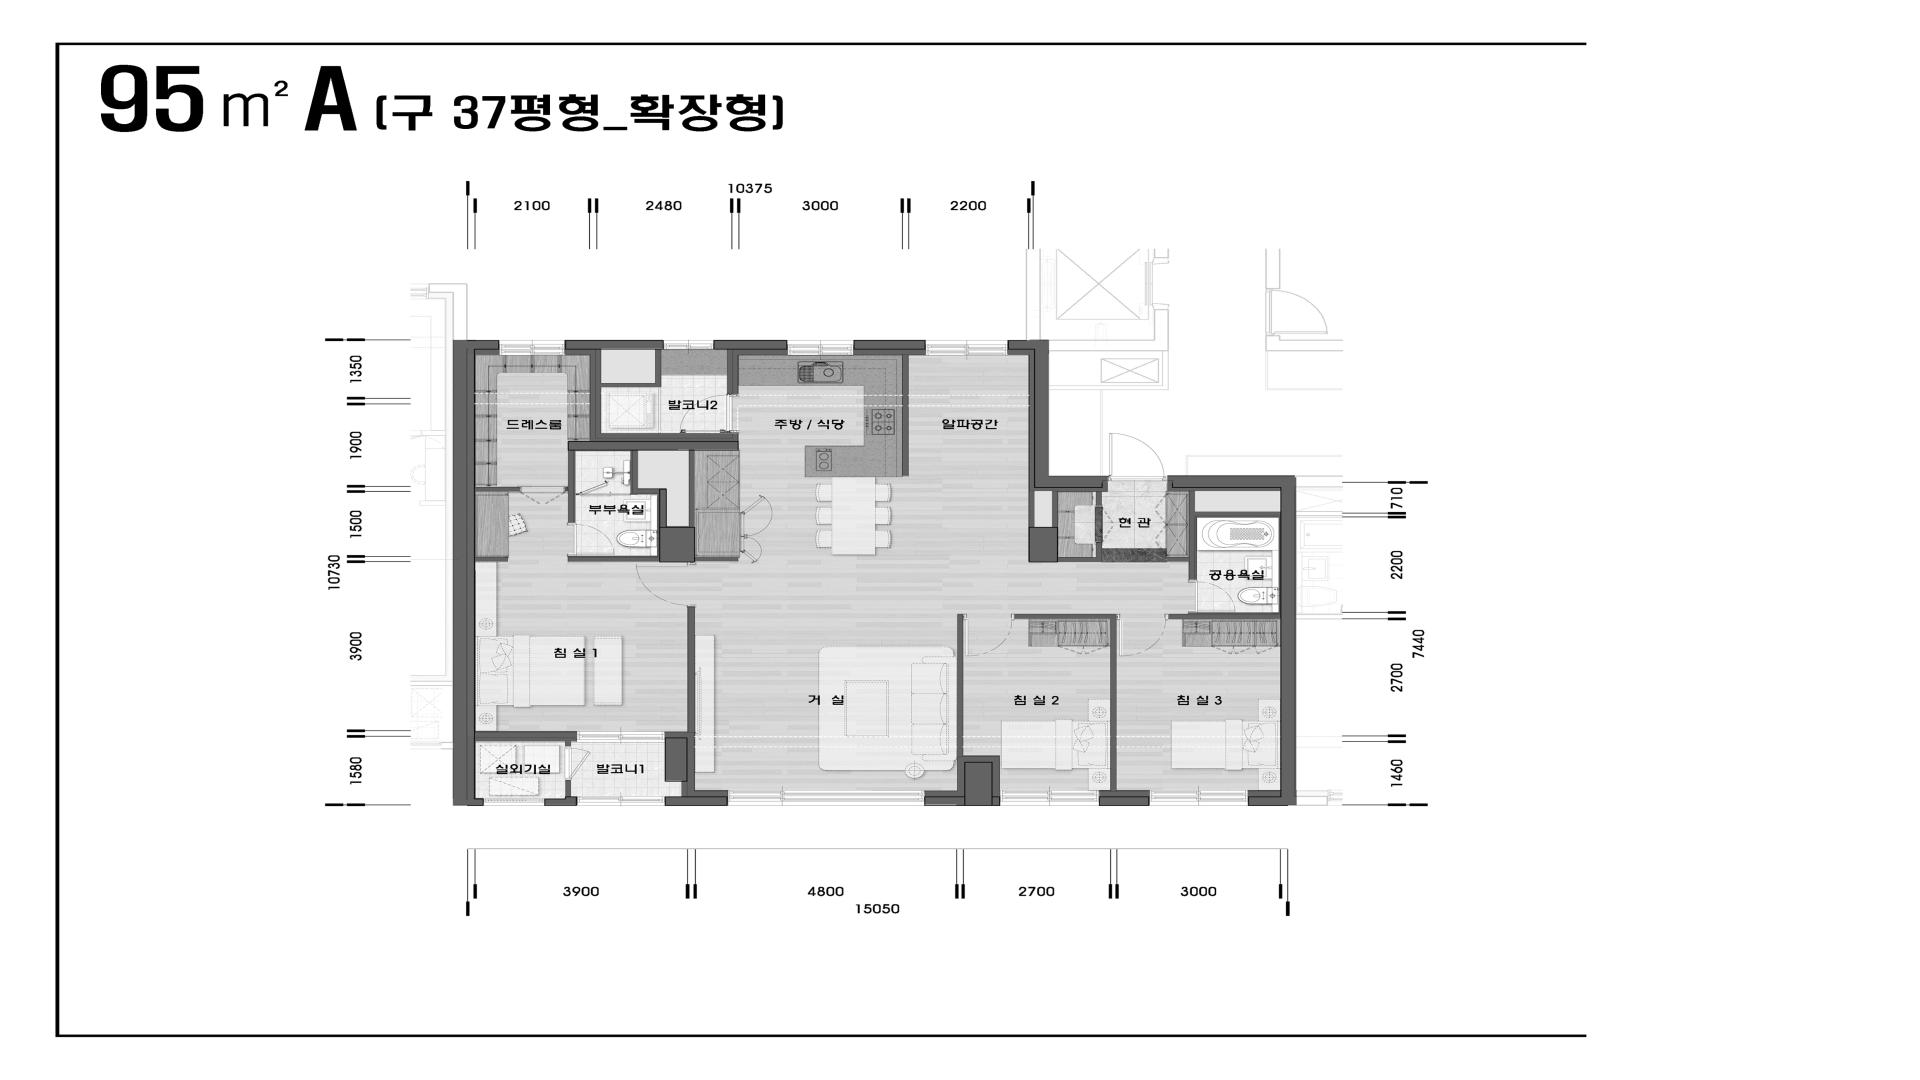background: (0, 0, 1920, 1080)
door: (1108, 433, 1168, 482), (636, 562, 697, 607), (963, 614, 1015, 656), (1117, 614, 1169, 656), (1189, 580, 1236, 613), (567, 523, 614, 556), (565, 746, 591, 780), (521, 486, 565, 505), (576, 480, 631, 495), (1096, 506, 1115, 542)
wall: (453, 349, 476, 799), (1281, 488, 1296, 797), (1035, 350, 1050, 477), (568, 441, 739, 451), (1168, 475, 1296, 488), (660, 527, 696, 562), (964, 762, 992, 806), (1029, 527, 1058, 562), (664, 738, 687, 782), (565, 340, 664, 350), (688, 607, 695, 732), (475, 738, 577, 746), (1035, 477, 1108, 488), (957, 615, 963, 737), (902, 354, 908, 476), (854, 340, 926, 350), (1111, 619, 1117, 737), (596, 433, 733, 438), (714, 340, 788, 349), (665, 796, 728, 806), (595, 349, 602, 433), (1168, 614, 1281, 619), (1189, 491, 1195, 580), (568, 450, 575, 523), (1015, 614, 1116, 619), (1099, 796, 1149, 806), (689, 450, 695, 527), (568, 557, 660, 562), (1248, 797, 1297, 806), (453, 340, 500, 349), (1008, 340, 1050, 350), (925, 796, 965, 806), (1195, 512, 1281, 516), (545, 796, 578, 806), (601, 383, 662, 388), (727, 349, 733, 394), (660, 489, 667, 527), (453, 798, 483, 806), (633, 450, 639, 489), (655, 350, 662, 383), (475, 487, 521, 492), (1058, 557, 1102, 562), (1029, 491, 1035, 527), (696, 557, 739, 562), (1053, 491, 1058, 527), (475, 557, 508, 562), (633, 489, 660, 494), (565, 780, 571, 796), (1096, 542, 1102, 557), (1167, 557, 1189, 561), (1096, 492, 1102, 506), (992, 796, 1000, 806)
window: (728, 791, 925, 806), (1000, 790, 1100, 806), (1149, 790, 1248, 806), (926, 340, 1008, 356), (499, 340, 565, 356), (788, 340, 854, 356), (577, 731, 665, 742), (578, 797, 665, 806), (664, 340, 714, 349), (483, 799, 545, 806)
